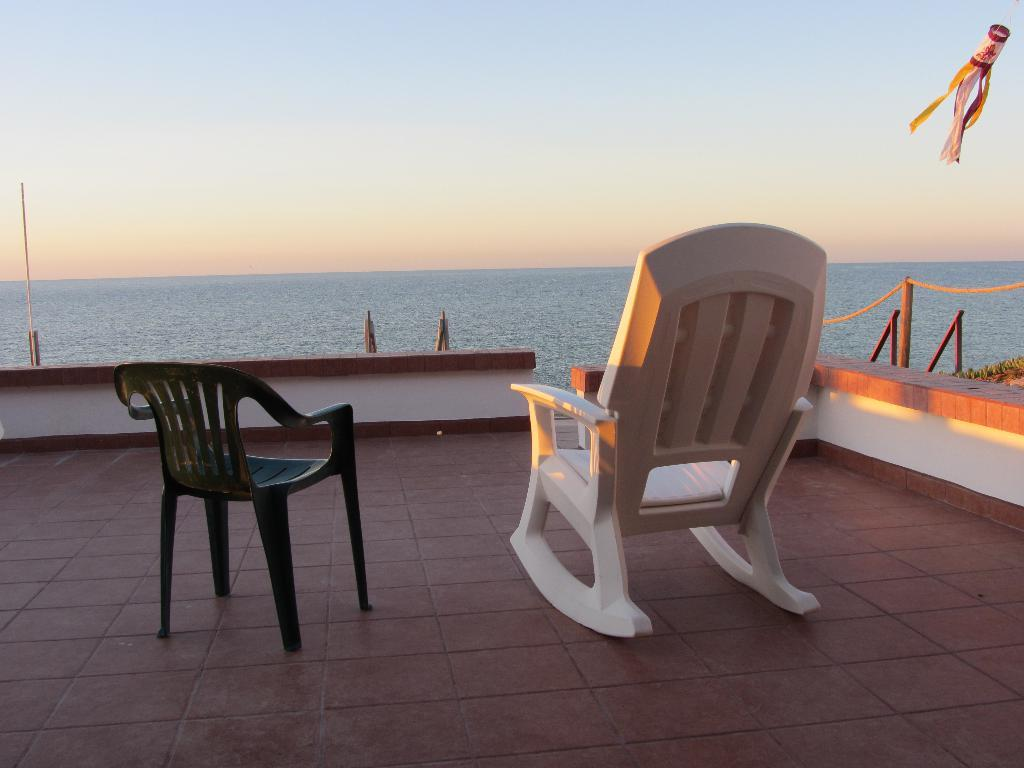Chair: (500, 219, 829, 646), (115, 363, 352, 650)
